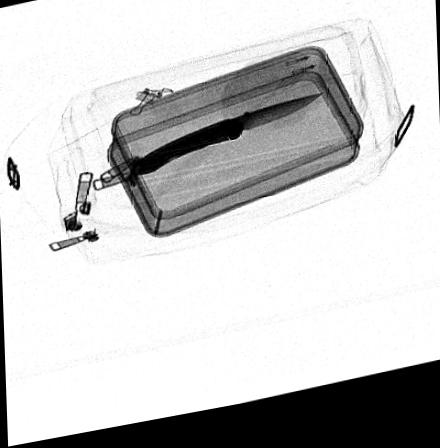Knife: (131, 105, 326, 181)
